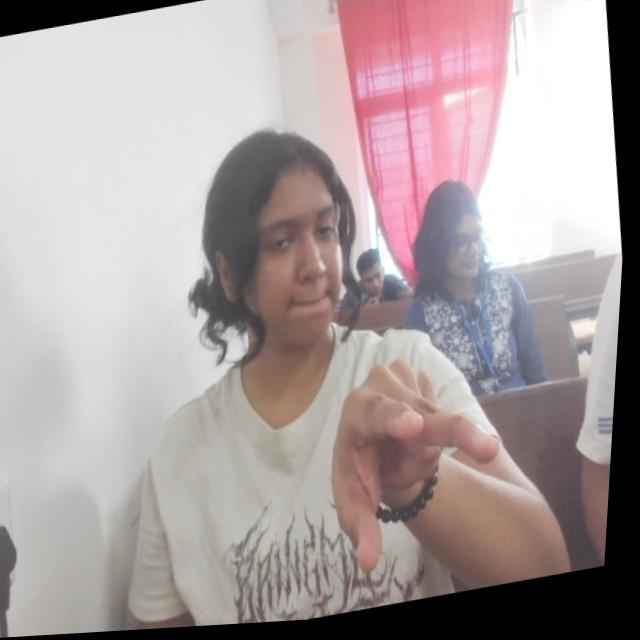no: (318, 346, 523, 584)
